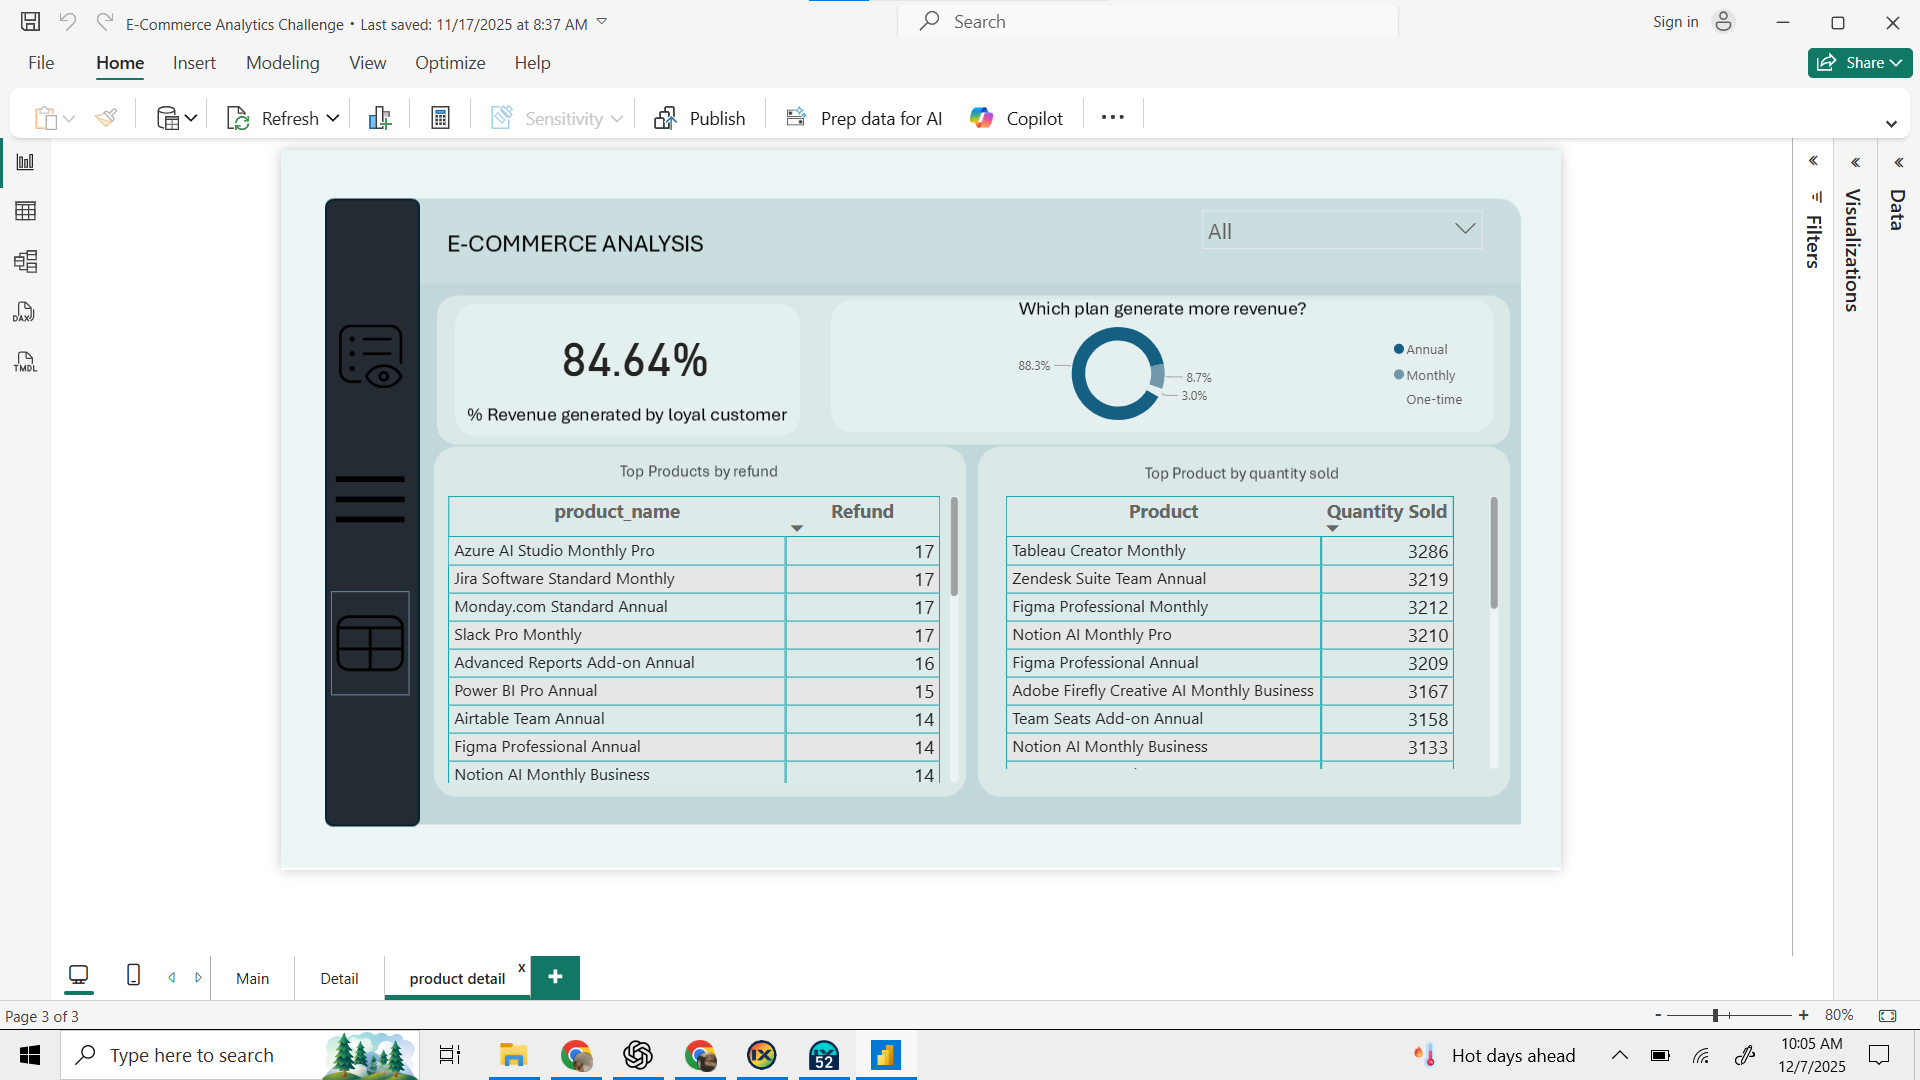

This screenshot's page, from the dashboard's own definition file:
{"tool":"powerbi","page":{"name":"product detail","canvas":[1280,720],"ordinal":2},"visuals":[{"type":"card","fields":{"Values":["All Measures.Loyalty Segment rev"]},"box":[255,153.8,198.8,101.2],"z":0},{"type":"donutChart","fields":{"Category":["Products.billing_cycle"],"Y":["All Measures.Net Revenue Usd"]},"box":[557.5,160,638.8,127.5],"z":1},{"type":"pivotTable","fields":{"Rows":["Products.product_name"],"Values":["All Measures.Refund"]},"box":[162.5,341.2,520,296.2],"z":2},{"type":"pivotTable","fields":{"Rows":["Products.product_name"],"Values":["All Measures.quantity"]},"box":[720,341.2,502.5,282.5],"z":3},{"type":"slicer","fields":{"Values":["Customers.country"]},"box":[911.2,50,300,88.8],"z":4},{"type":"image","box":[49.6,169.5,78.7,72.6],"z":5},{"type":"image","box":[49.6,303.8,78.7,90.8],"z":6},{"type":"image","box":[50,441.2,78.8,103.8],"z":7}]}

Visuals, with their boxes on the page's 1280x720 design canvas (x1, y1, x2, y2). These are canvas units, not pixel positions in the 1920x1080 screenshot, which may show the page scaled, cropped or inside an application window:
card - All Measures.Loyalty Segment rev: <bbox>255, 154, 454, 255</bbox>
donutChart - Products.billing_cycle x All Measures.Net Revenue Usd: <bbox>558, 160, 1196, 288</bbox>
pivotTable - Products.product_name x All Measures.Refund: <bbox>162, 341, 682, 637</bbox>
pivotTable - Products.product_name x All Measures.quantity: <bbox>720, 341, 1222, 624</bbox>
slicer - Customers.country: <bbox>911, 50, 1211, 139</bbox>
image: <bbox>50, 170, 128, 242</bbox>
image: <bbox>50, 304, 128, 395</bbox>
image: <bbox>50, 441, 129, 545</bbox>
